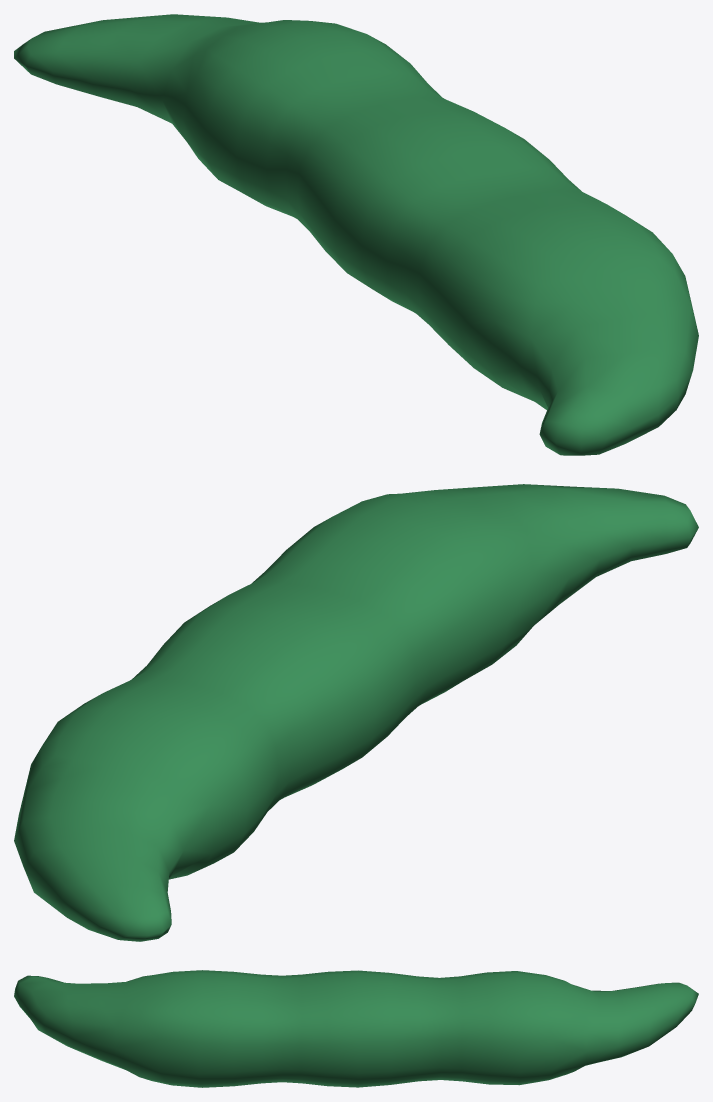
File: Peas_03.dae
3 views of the same model, one above another, from view 1: azimuth 30°, elevation 25°; view 2: azimuth 150°, elevation 25°; view 3: azimuth 270°, elevation 25° (orthographic). The views are drawn at different scales.
Parts seen in each view (by area): view 1: Peas_03_LOD0; view 2: Peas_03_LOD0; view 3: Peas_03_LOD0.
Boxes of the visible parts, x1=… form: Peas_03_LOD0: x1=14, y1=14, x2=698, y2=455; Peas_03_LOD0: x1=14, y1=484, x2=698, y2=941; Peas_03_LOD0: x1=14, y1=970, x2=698, y2=1087.
Size of what is drawn, in the model's own units: 2.03 by 7.59 by 1.13.
